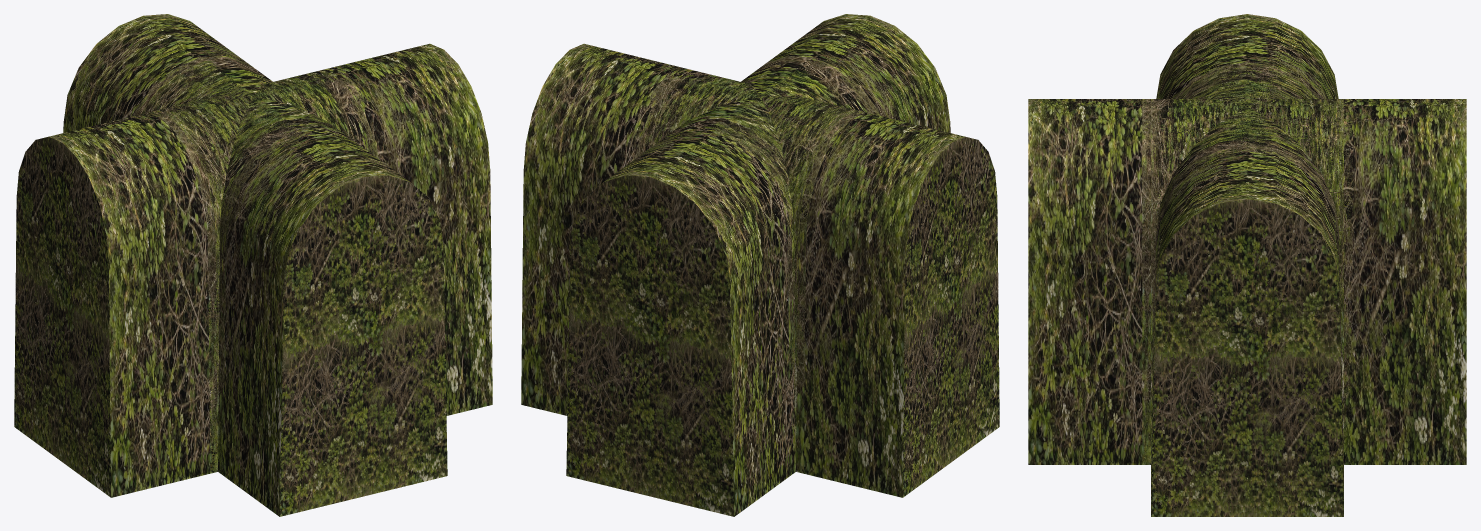
File: hedge_cross.glb
3 renders of one model, left to right at view 1: azimuth 30°, elevation 25°; view 2: azimuth 150°, elevation 25°; view 3: azimuth 270°, elevation 25°, orthographic.
Bounding box in the file's own units: 1 × 0.8 × 1.
Materials: 1 (1 with a texture image).
